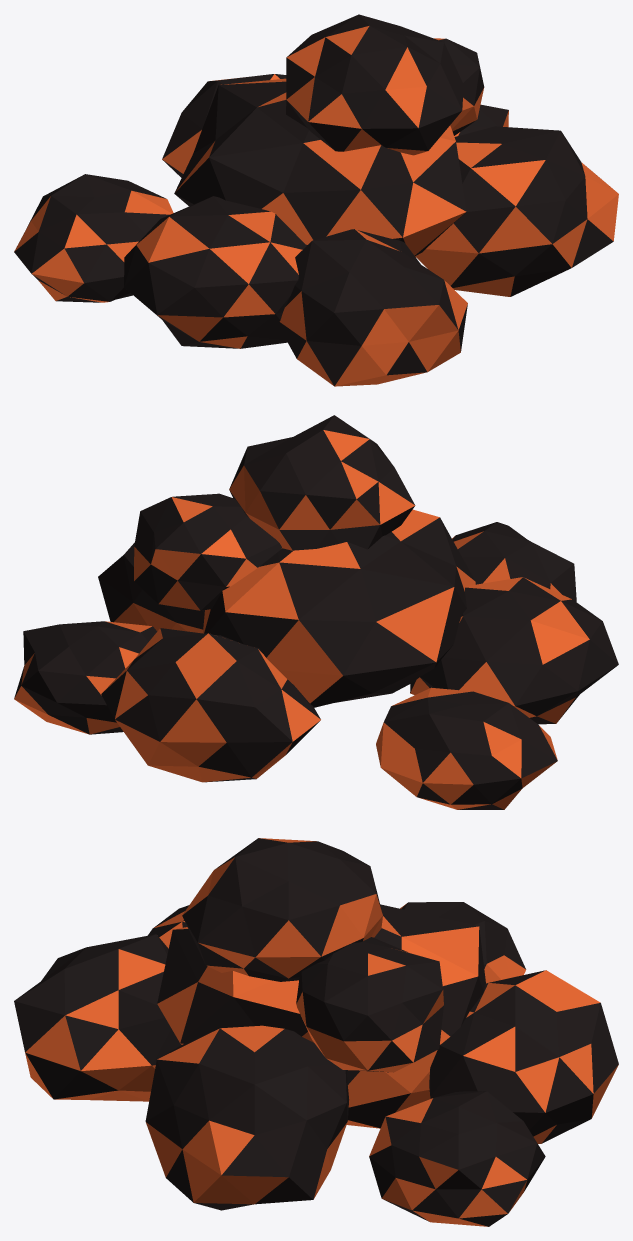
The model's file is ember_pile.glb.
3 renders of one model, top to bottom at view 1: azimuth 30°, elevation 25°; view 2: azimuth 150°, elevation 25°; view 3: azimuth 270°, elevation 25°, orthographic. The views are drawn at different scales.
Visible parts, largest first — view 1: EmberPile; view 2: EmberPile; view 3: EmberPile.
Boxes of the visible parts, x1,y1,x2,y2 form: EmberPile: (14, 14, 618, 386); EmberPile: (14, 415, 618, 809); EmberPile: (14, 838, 618, 1226).
Size of the model in its own units: 0.0562 by 0.0281 by 0.0534.
